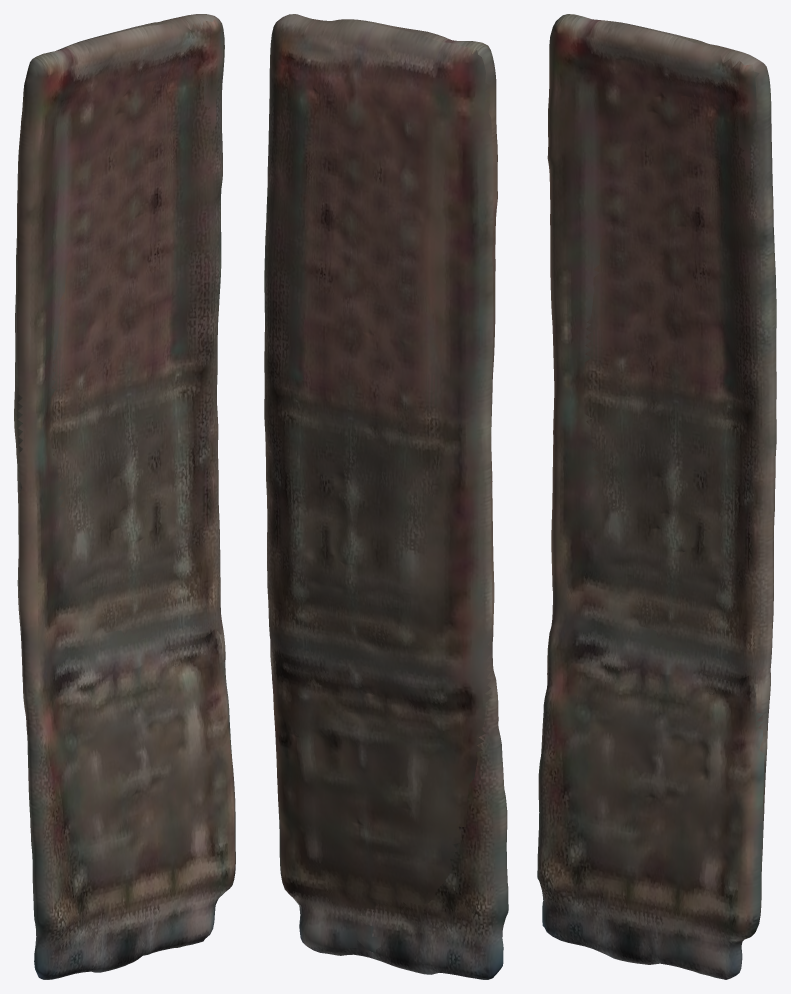
Rendered from kfl-2207.glb.
3 views of the same model, side by side, from view 1: azimuth 30°, elevation 25°; view 2: azimuth 150°, elevation 25°; view 3: azimuth 330°, elevation 25° (orthographic). The views are drawn at different scales.
Parts seen in each view (by area): view 1: geometry_0; view 2: geometry_0; view 3: geometry_0.
Part boxes in pixels (x1,y1,x2,y2): geometry_0: (14, 14, 235, 979); geometry_0: (264, 14, 508, 979); geometry_0: (537, 14, 776, 979).
Bounding box in the file's own units: 0.2369 × 0.9891 × 0.0934.
1 material, 1 textured.
